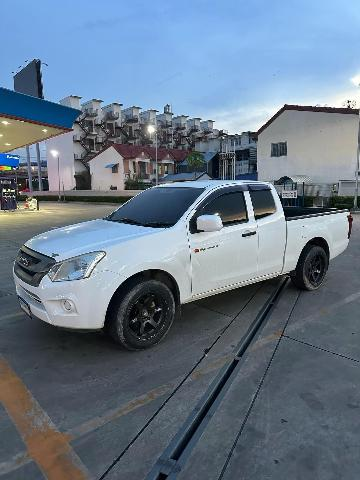pickup-truck: (7, 174, 356, 360)
